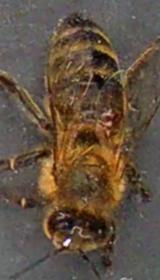varroa_mite: (89, 105, 120, 136)
